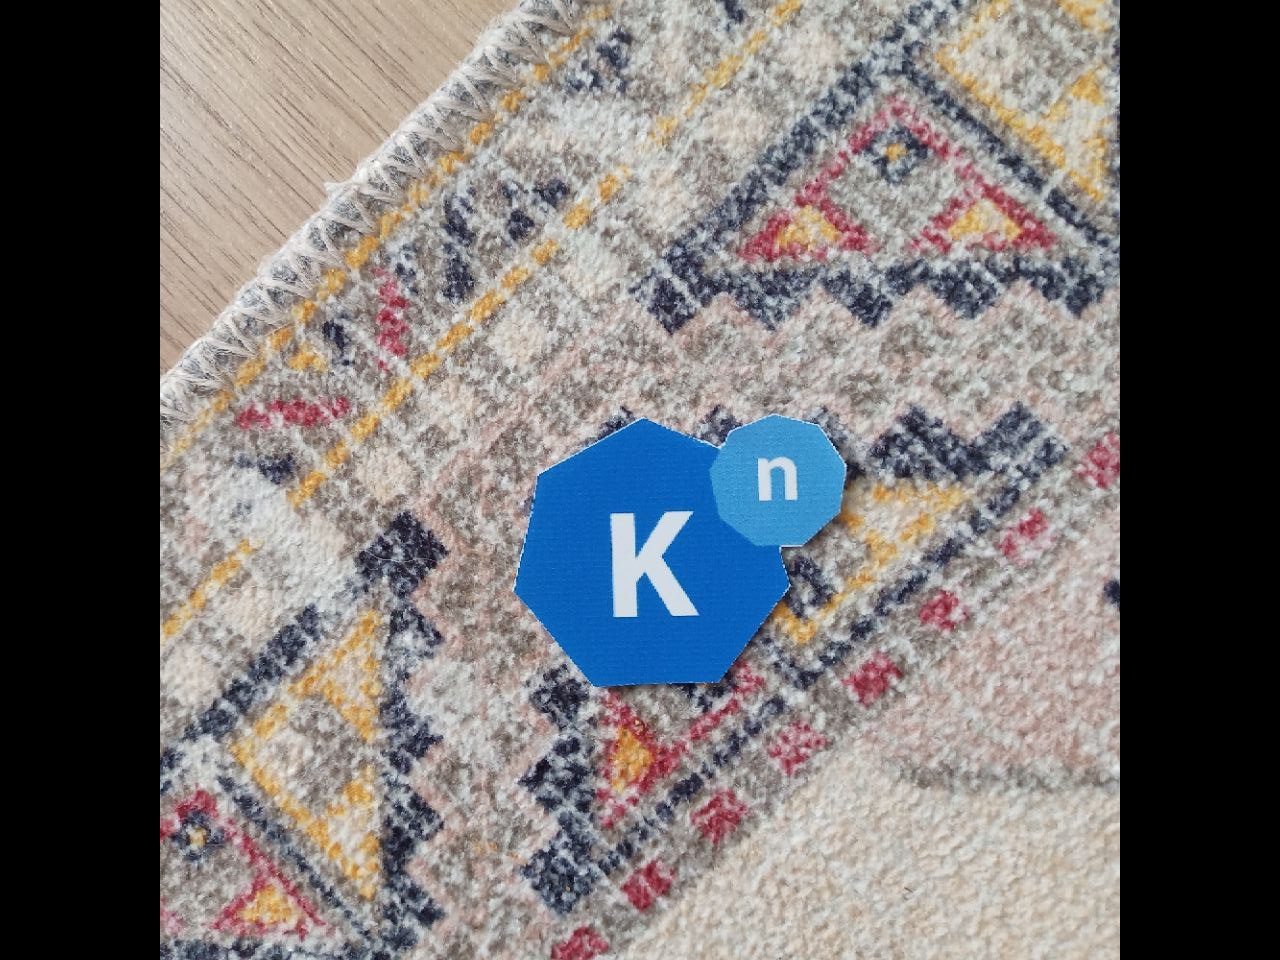knative: (515, 414, 849, 693)
